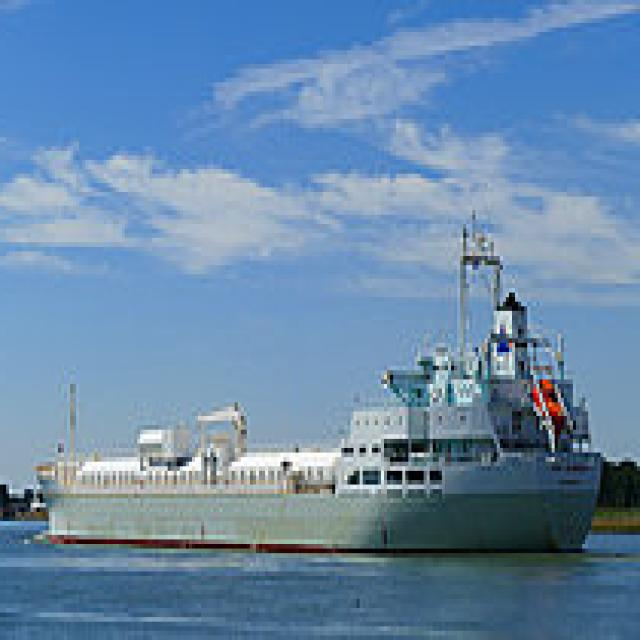Tanker: (33, 201, 612, 544)
